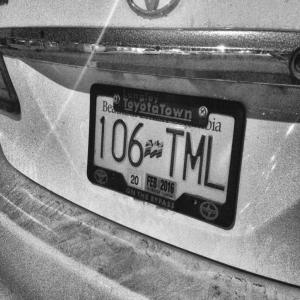Vehicle-registration-plate: (89, 83, 241, 230)
